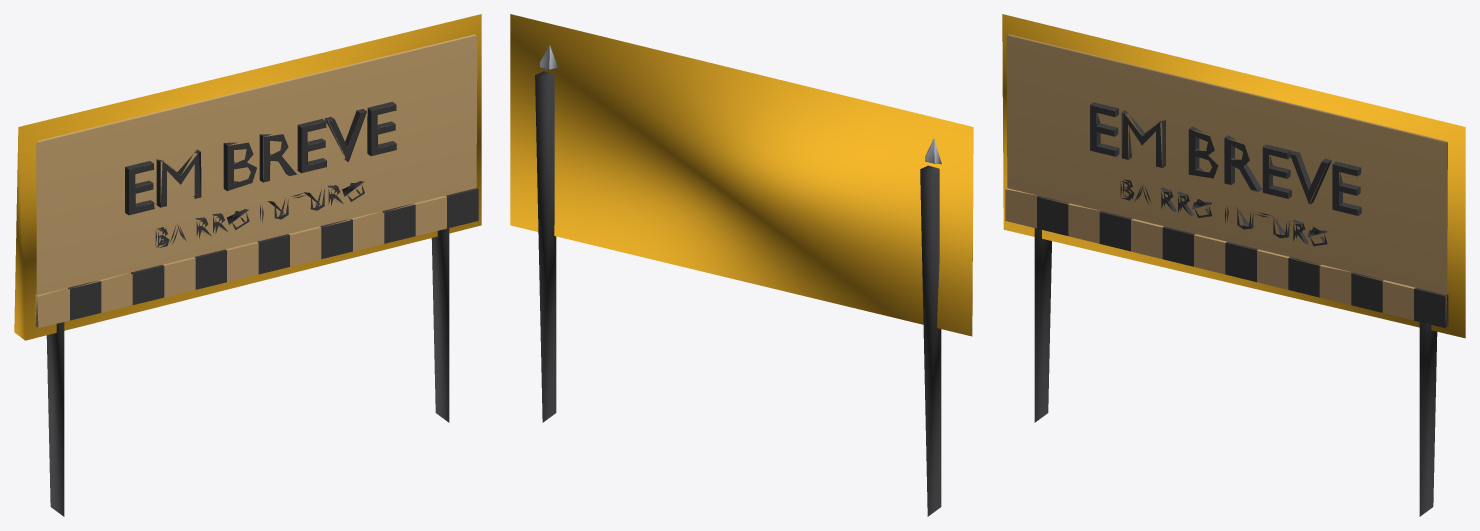
Rendered from lod_soon_sign.glb.
3 renders of one model, left to right at view 1: azimuth 30°, elevation 25°; view 2: azimuth 150°, elevation 25°; view 3: azimuth 330°, elevation 25°, orthographic.
Parts seen in each view (by area): view 1: soon_sign; view 2: soon_sign; view 3: soon_sign.
Boxes of the visible parts, box(x1,y1,x2,y2) form: soon_sign: box(14, 14, 481, 516); soon_sign: box(510, 14, 973, 516); soon_sign: box(1002, 14, 1465, 516).
Bounding box in the file's own units: 3.38 × 2.74 × 0.2329.
